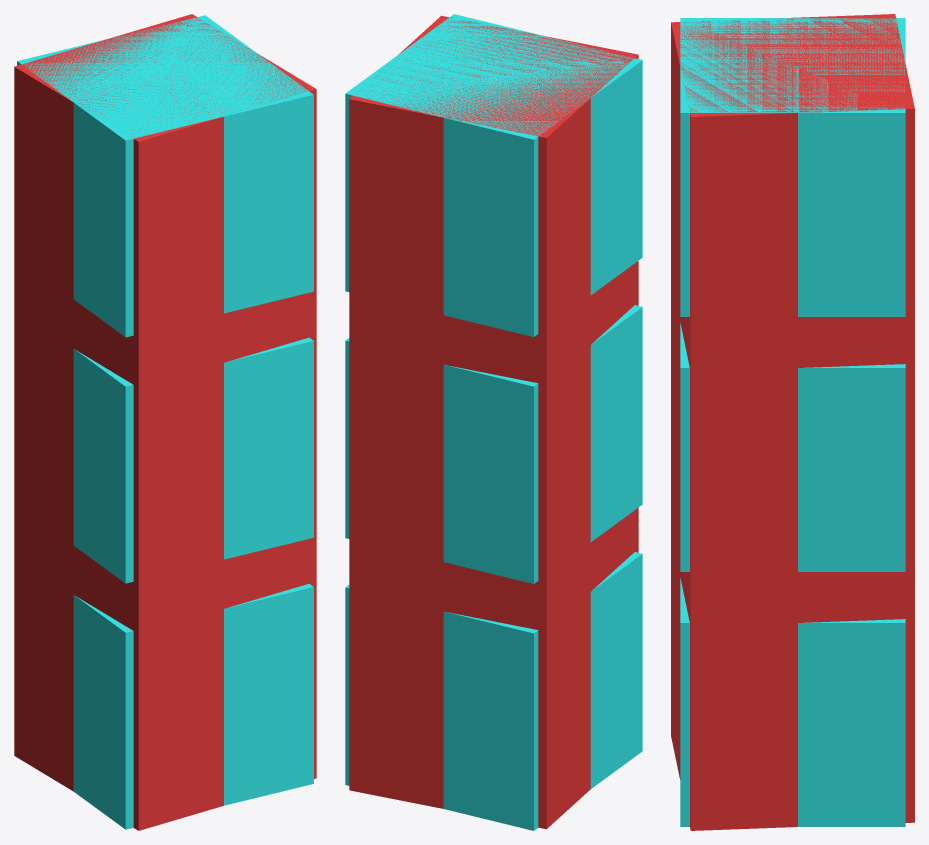
File: BoxAnimated2.glb
The picture shows the model from 3 angles, left to right: view 1: azimuth 30°, elevation 25°; view 2: azimuth 150°, elevation 25°; view 3: azimuth 270°, elevation 25°; orthographic projection. The views are drawn at different scales.
Visible parts, largest first — view 1: Cube (×4); view 2: Cube (×4); view 3: Cube (×4).
Boxes of the visible parts, box(x1,y1,x2,y2) form: Cube (×4): box(14, 14, 316, 830); Cube (×4): box(345, 14, 642, 830); Cube (×4): box(671, 14, 914, 830).
Bounding box in the file's own units: 1.08 × 3.5 × 1.08.
